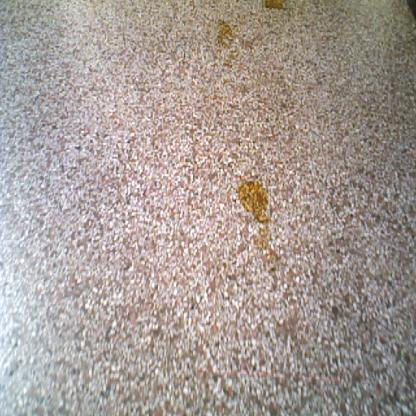liquid: (237, 180, 270, 224), (253, 226, 275, 264), (215, 23, 233, 48), (223, 50, 239, 68), (264, 1, 287, 10)
